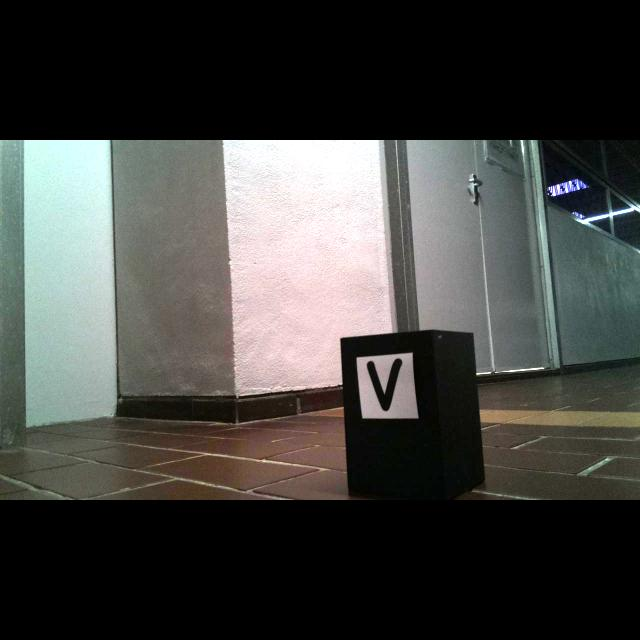V: (367, 359, 402, 411)
